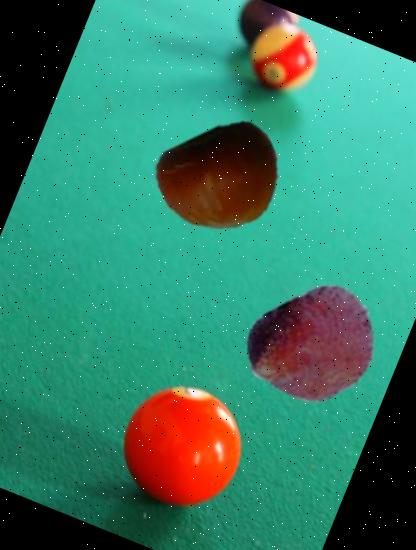Nut: (142, 100, 301, 260)
Salak: (228, 262, 400, 434)
